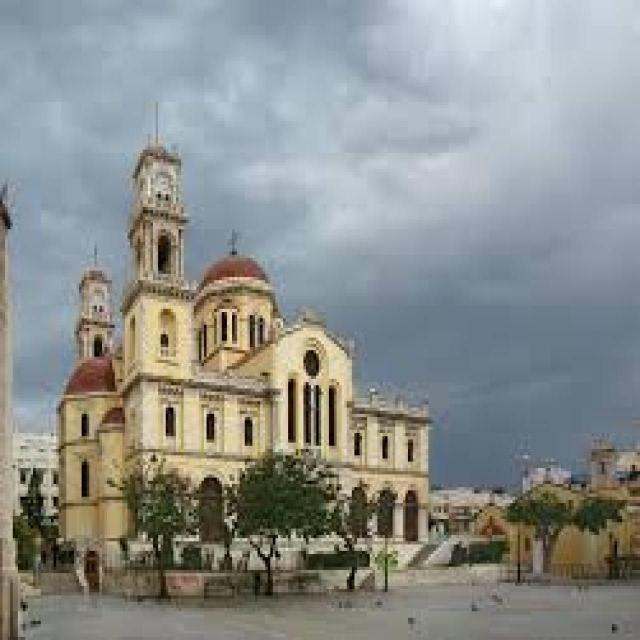Agios Minas: (59, 140, 426, 574)
